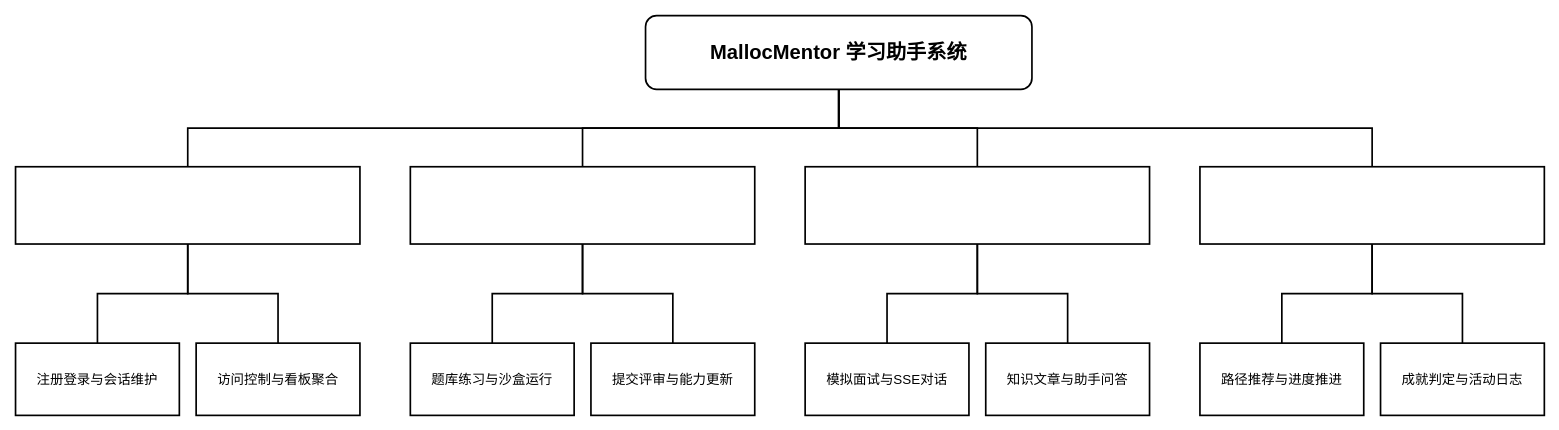
Some shapes in this 1559 by 430 pixel diagram are drawn without their labels. Each missing label, with the box of its shape:
AI学习路径与成就激励模块: (1199, 165, 1545, 244)
用户认证与数据看板模块: (14, 165, 360, 244)
编程练习与代码审查模块: (409, 165, 755, 244)
面试对话与知识学习模块: (804, 165, 1150, 244)
